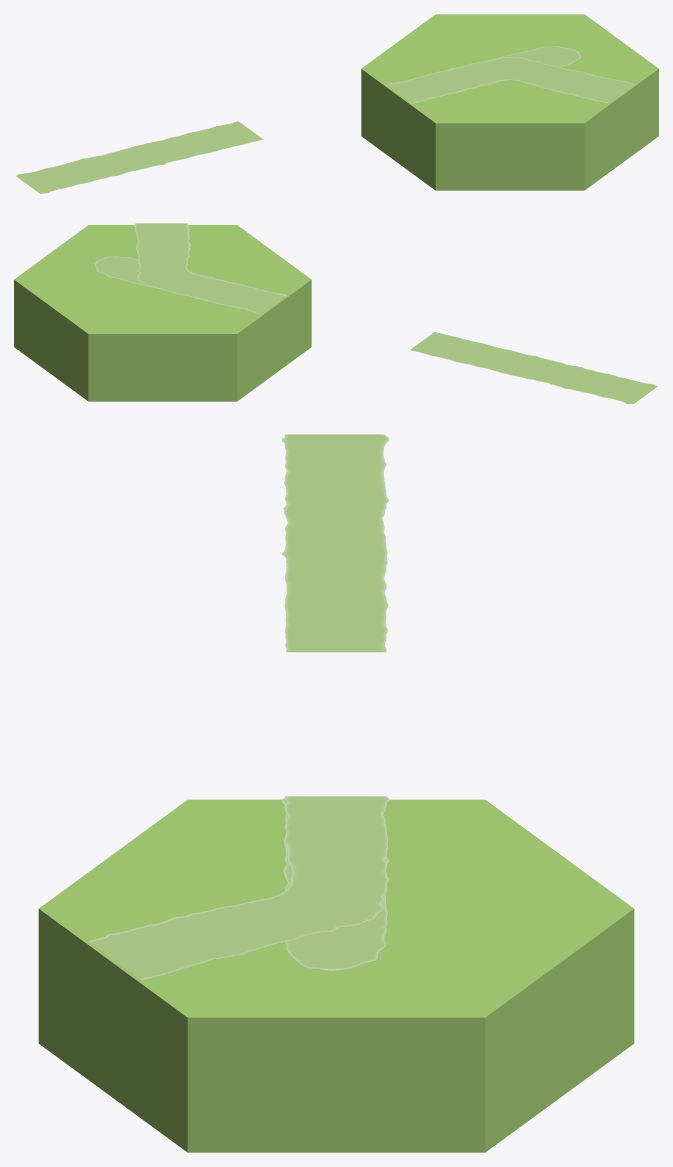
File: ExportedBlenderFBXFile.fbx
3 views of the same model, one above another, from view 1: azimuth 30°, elevation 25°; view 2: azimuth 150°, elevation 25°; view 3: azimuth 270°, elevation 25° (orthographic). The views are drawn at different scales.
Parts seen in each view (by area): view 1: Grass_Floor, Stone_Floor, Grass_Floor_Path_DirectRoad, Grass_Floor_Path_FullTurn, Grass_Floor_Path_End; view 2: Grass_Floor, Stone_Floor, Grass_Floor_Path_DirectRoad, Grass_Floor_Path_FullTurn, Grass_Floor_Path_End; view 3: Grass_Floor, Stone_Floor, Grass_Floor_Path_DirectRoad, Grass_Floor_Path_FullTurn, Grass_Floor_Path_End.
Part boxes in pixels (x1,y1,x2,y2): Grass_Floor: (361, 14, 658, 190); Stone_Floor: (361, 70, 658, 190); Grass_Floor_Path_DirectRoad: (16, 121, 263, 194); Grass_Floor_Path_FullTurn: (386, 56, 635, 103); Grass_Floor_Path_End: (390, 46, 581, 103); Grass_Floor: (14, 225, 311, 401); Stone_Floor: (14, 280, 311, 401); Grass_Floor_Path_DirectRoad: (410, 332, 657, 404); Grass_Floor_Path_FullTurn: (134, 223, 286, 314); Grass_Floor_Path_End: (94, 256, 286, 313); Grass_Floor: (38, 799, 634, 1152); Stone_Floor: (38, 909, 634, 1152); Grass_Floor_Path_DirectRoad: (282, 434, 389, 652); Grass_Floor_Path_FullTurn: (89, 796, 389, 979); Grass_Floor_Path_End: (282, 796, 389, 970).
Bounding box in the file's own units: 4.61 × 0.5125 × 2.
